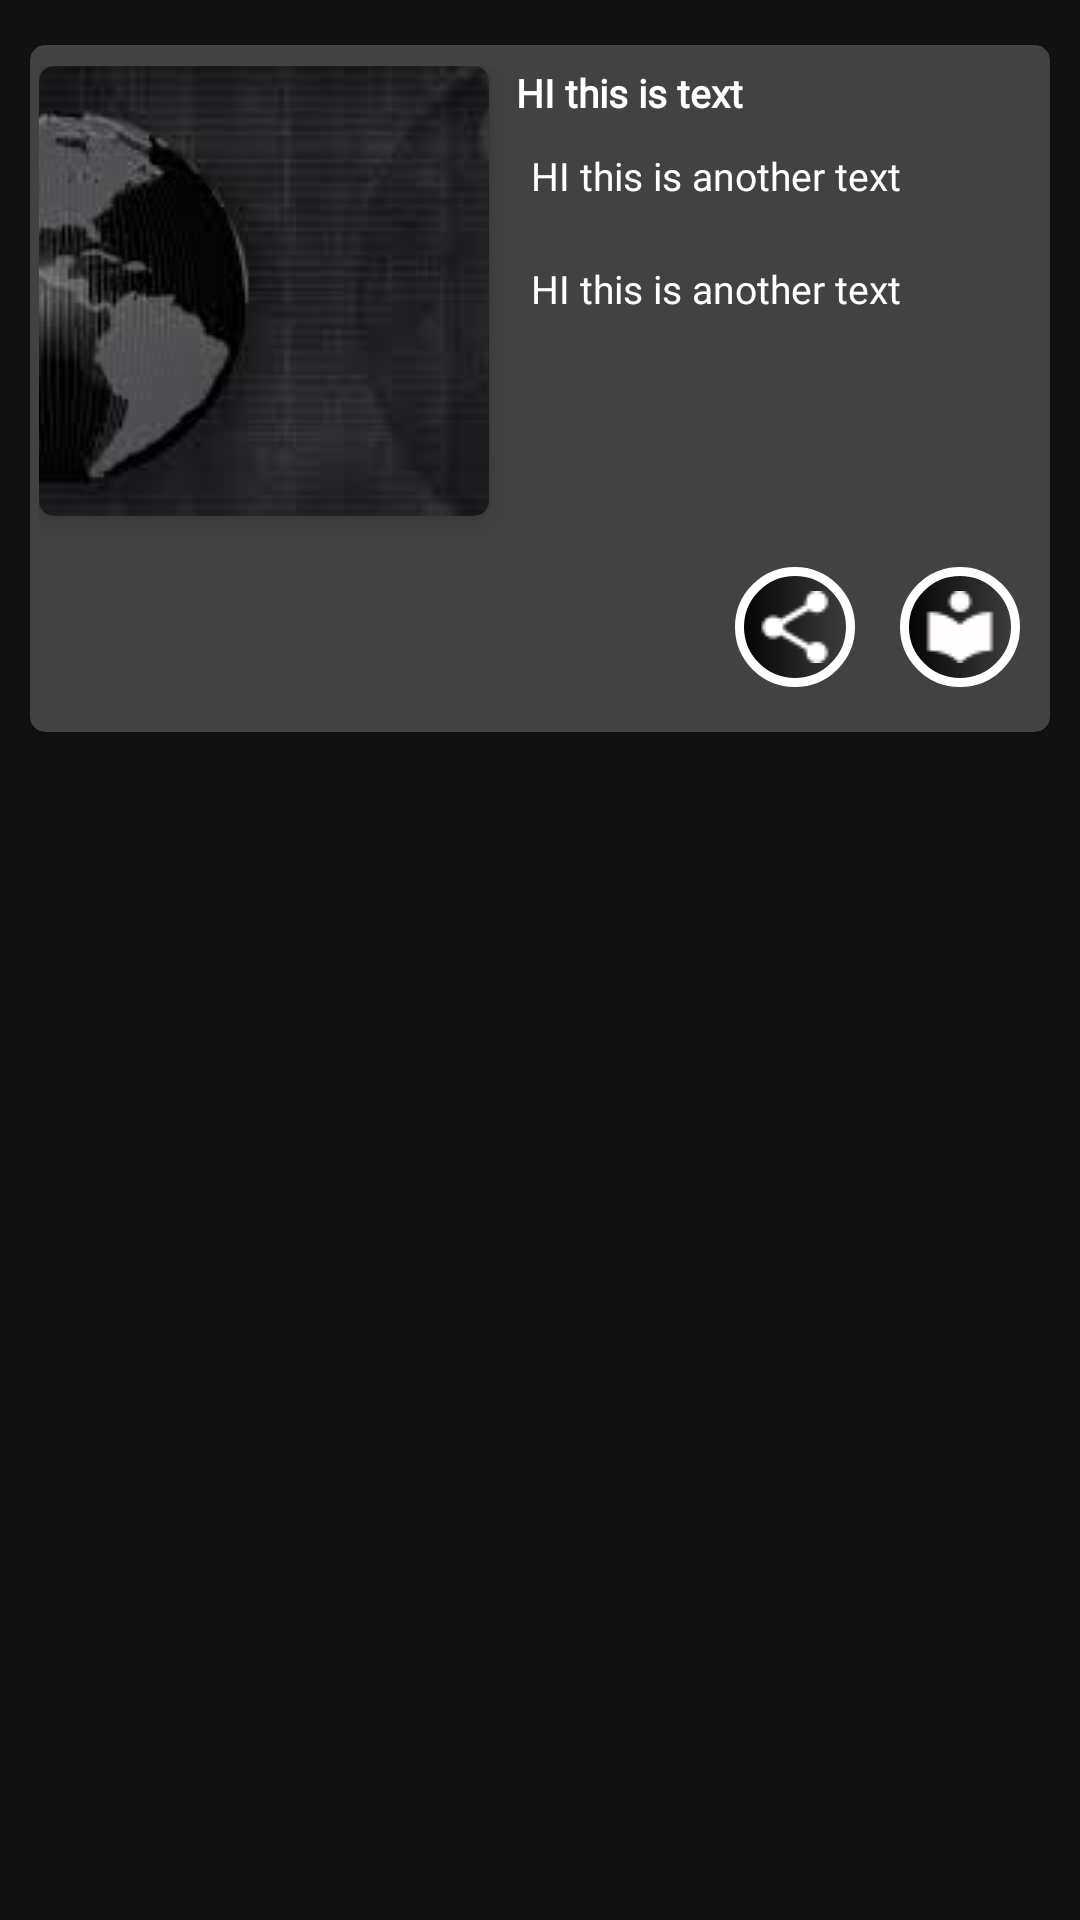

Icons on this 1080 x 1920 Android screen, each with its box as (x1, y1, x2, y2):
read: (900, 567, 1020, 687)
share: (735, 567, 855, 687)
